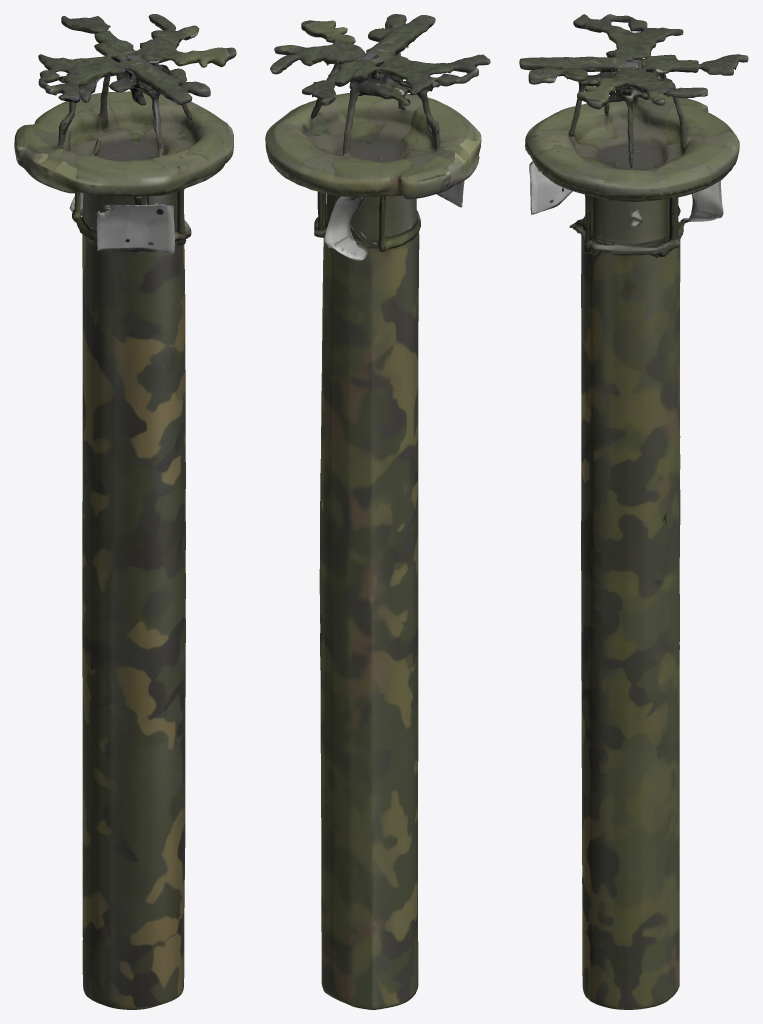
The model's file is a8f18db2-1187-4511-abfc-332f407a3c7d.glb.
The picture shows the model from 3 angles, left to right: view 1: azimuth 30°, elevation 25°; view 2: azimuth 150°, elevation 25°; view 3: azimuth 270°, elevation 25°; orthographic projection.
Bounding box in the file's own units: 0.4179 × 2 × 0.4457.
1 material, 1 textured.
